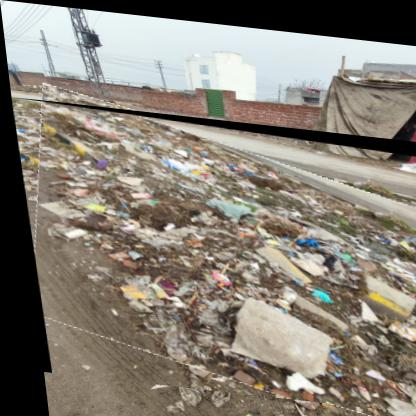Garbage: (10, 98, 416, 411)
